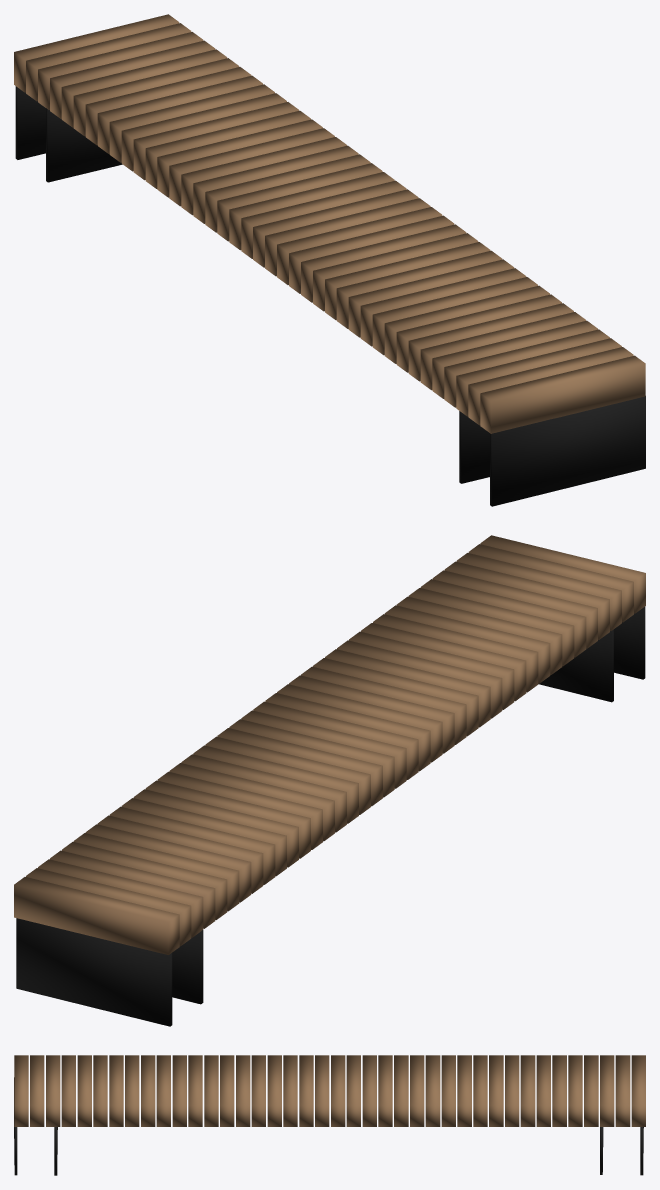
File: Bench.fbx
3 views of the same model, one above another, from view 1: azimuth 30°, elevation 25°; view 2: azimuth 150°, elevation 25°; view 3: azimuth 270°, elevation 25° (orthographic). The views are drawn at different scales.
Parts seen in each view (by area): view 1: Cube.659; view 2: Cube.659; view 3: Cube.659.
Part boxes in pixels (x1=…): Cube.659: x1=14, y1=14, x2=645, y2=506; Cube.659: x1=14, y1=535, x2=645, y2=1026; Cube.659: x1=14, y1=1055, x2=645, y2=1175.
Bounding box in the file's own units: 6.08 × 1.14 × 0.7406.
